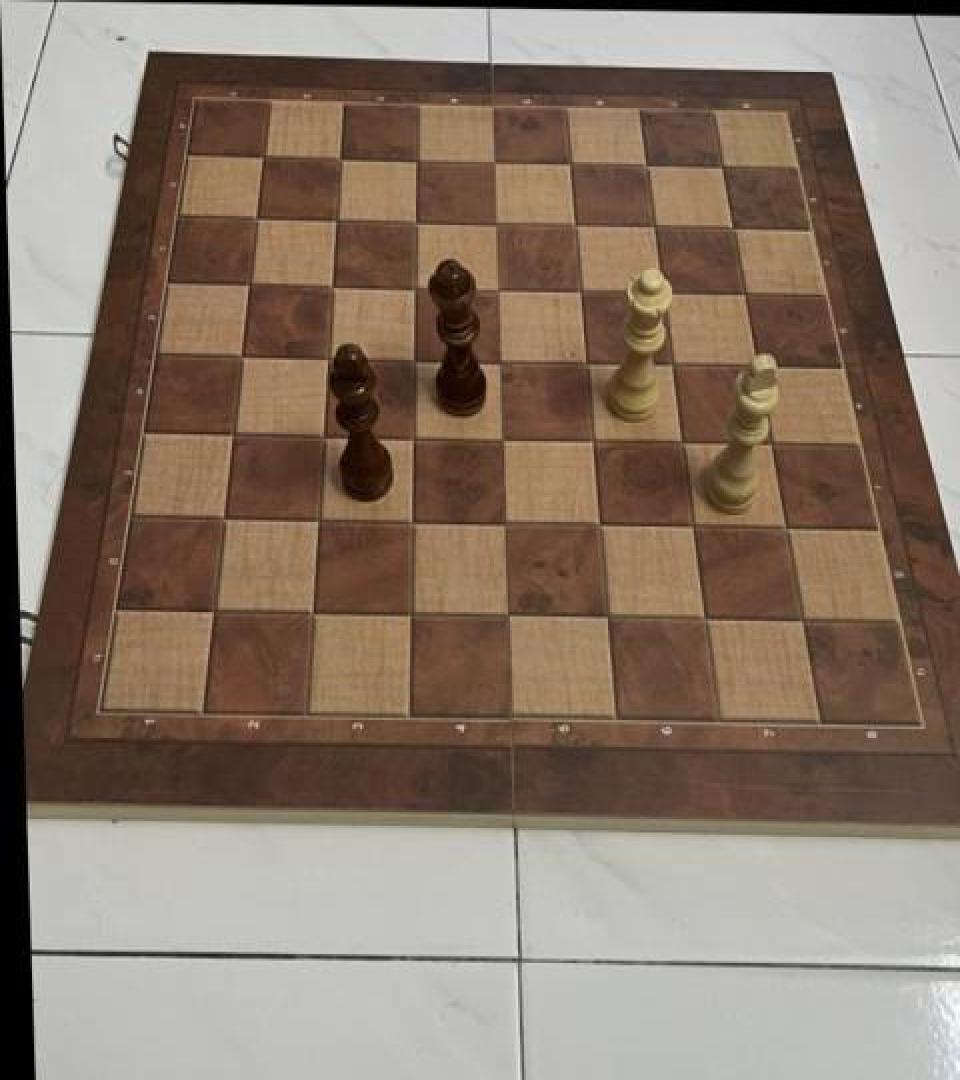xcorner: (399, 139, 433, 178), (322, 138, 356, 177), (399, 201, 433, 240), (563, 272, 597, 311), (225, 335, 259, 374), (303, 499, 337, 538), (704, 148, 738, 186), (628, 146, 662, 184), (552, 144, 586, 182), (476, 142, 510, 180), (245, 136, 279, 174), (715, 210, 749, 248), (636, 208, 670, 246), (557, 206, 591, 244), (478, 204, 512, 242), (319, 199, 353, 237), (239, 197, 273, 235), (727, 277, 761, 315), (645, 274, 679, 312), (481, 270, 515, 308), (398, 268, 432, 306), (315, 266, 349, 304), (233, 264, 267, 302), (740, 348, 774, 386), (655, 346, 689, 384), (569, 344, 603, 382), (483, 342, 517, 380), (398, 340, 432, 378), (312, 338, 346, 376), (754, 426, 788, 464), (665, 424, 699, 462), (576, 422, 610, 460), (487, 420, 521, 458), (397, 418, 431, 456), (307, 415, 341, 453), (218, 413, 252, 451), (769, 511, 803, 549), (676, 508, 710, 546), (583, 506, 617, 544), (490, 504, 524, 542), (396, 502, 430, 540), (209, 498, 243, 536), (785, 603, 819, 641), (688, 601, 722, 639), (591, 598, 625, 636), (493, 596, 527, 634), (396, 594, 430, 632), (298, 592, 332, 630), (200, 590, 234, 628)
